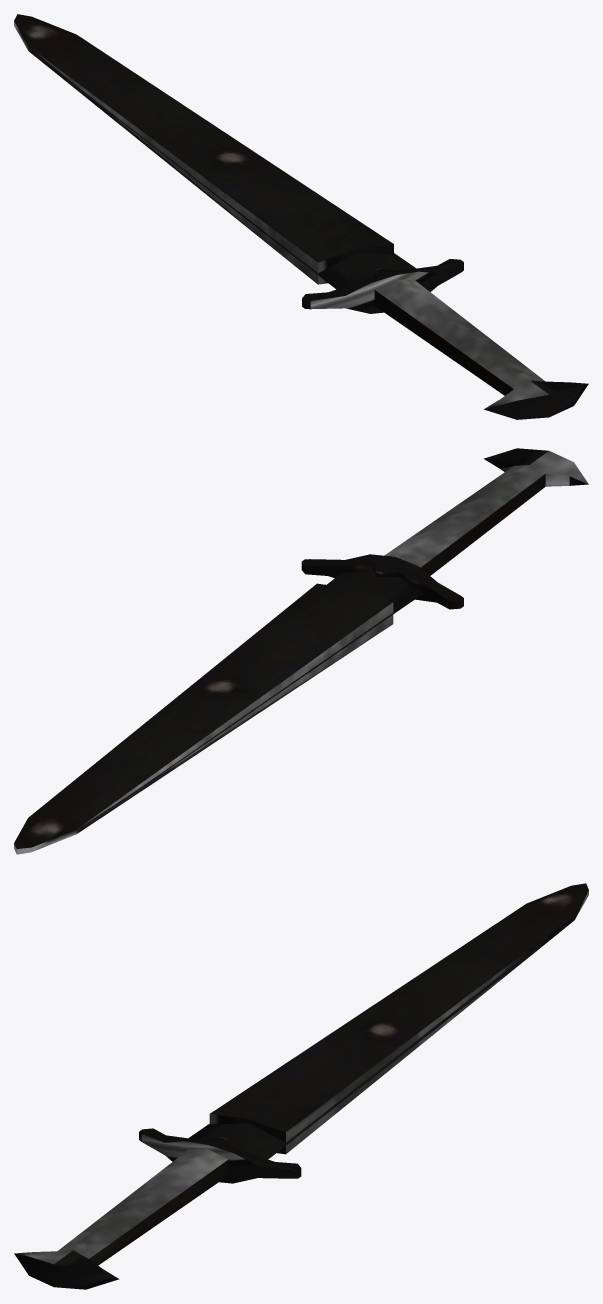
3 renders of one model, top to bottom at view 1: azimuth 30°, elevation 25°; view 2: azimuth 150°, elevation 25°; view 3: azimuth 330°, elevation 25°, orthographic.
Parts seen in each view (by area): view 1: mesh_0; view 2: mesh_0; view 3: mesh_0.
Part boxes in pixels (x1,y1,x2,y2): mesh_0: (14, 14, 588, 419); mesh_0: (14, 448, 588, 854); mesh_0: (14, 883, 588, 1289).
Size of the model in its own units: 6.89 by 1.5 by 39.94.
1 material, 1 textured.
